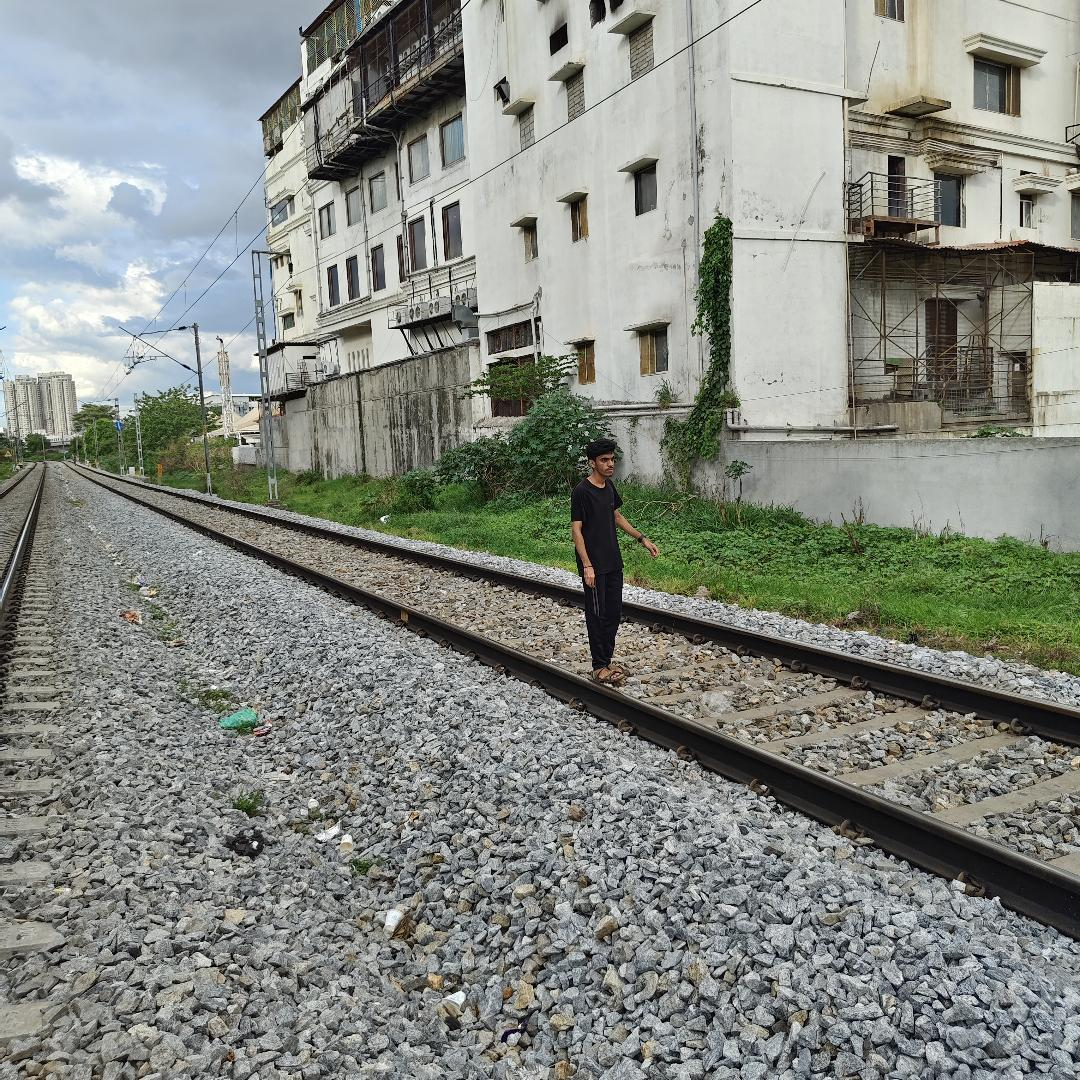standing: (562, 434, 664, 684)
